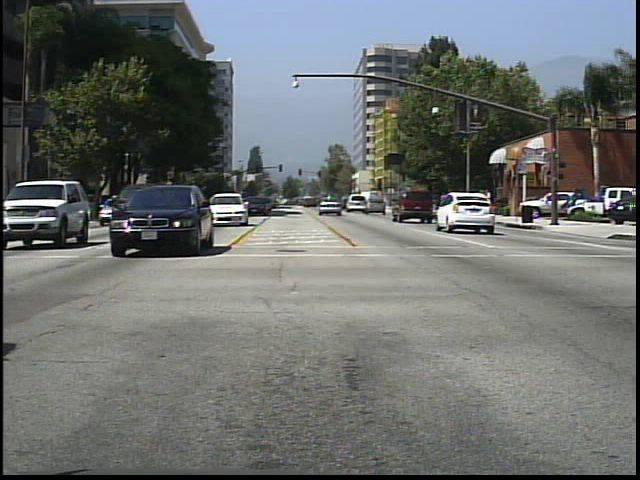person: (436, 191, 455, 224), (473, 189, 489, 218)
